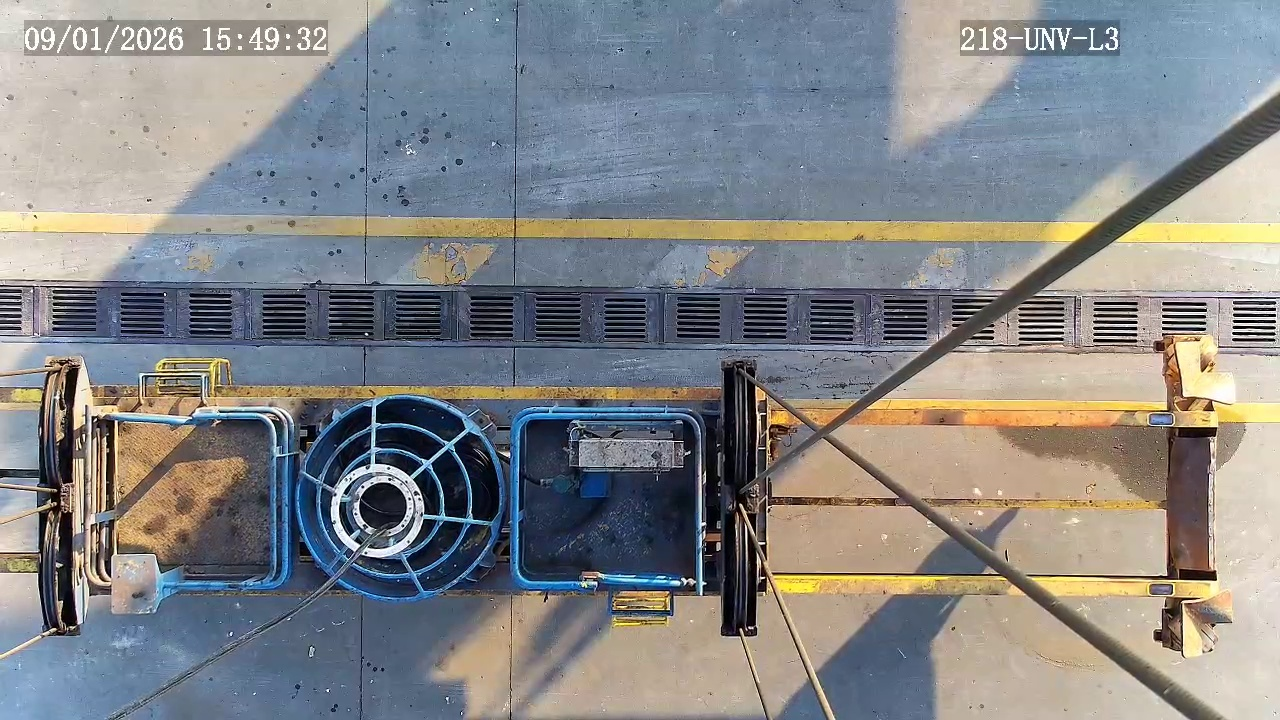right: (295, 394, 505, 602)
